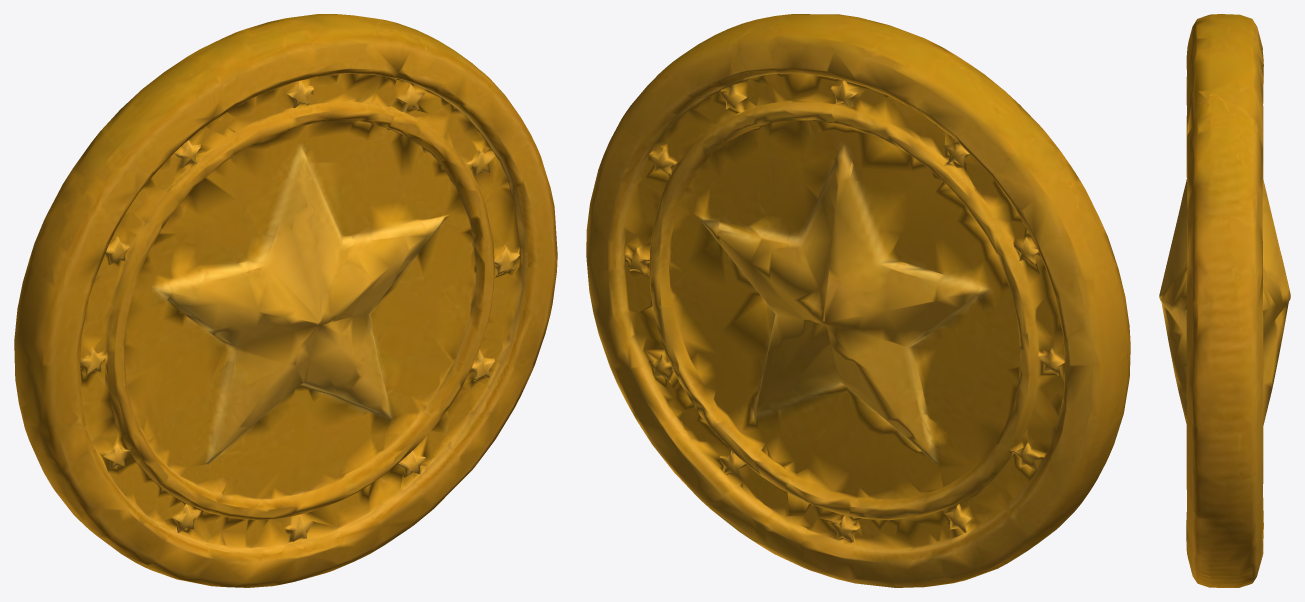
The model's file is gem-double.glb.
3 views of the same model, side by side, from view 1: azimuth 30°, elevation 25°; view 2: azimuth 150°, elevation 25°; view 3: azimuth 270°, elevation 25° (orthographic). The views are drawn at different scales.
Size of the model in its own units: 1.9 by 1.9 by 0.4362.
1 material, 1 textured.
